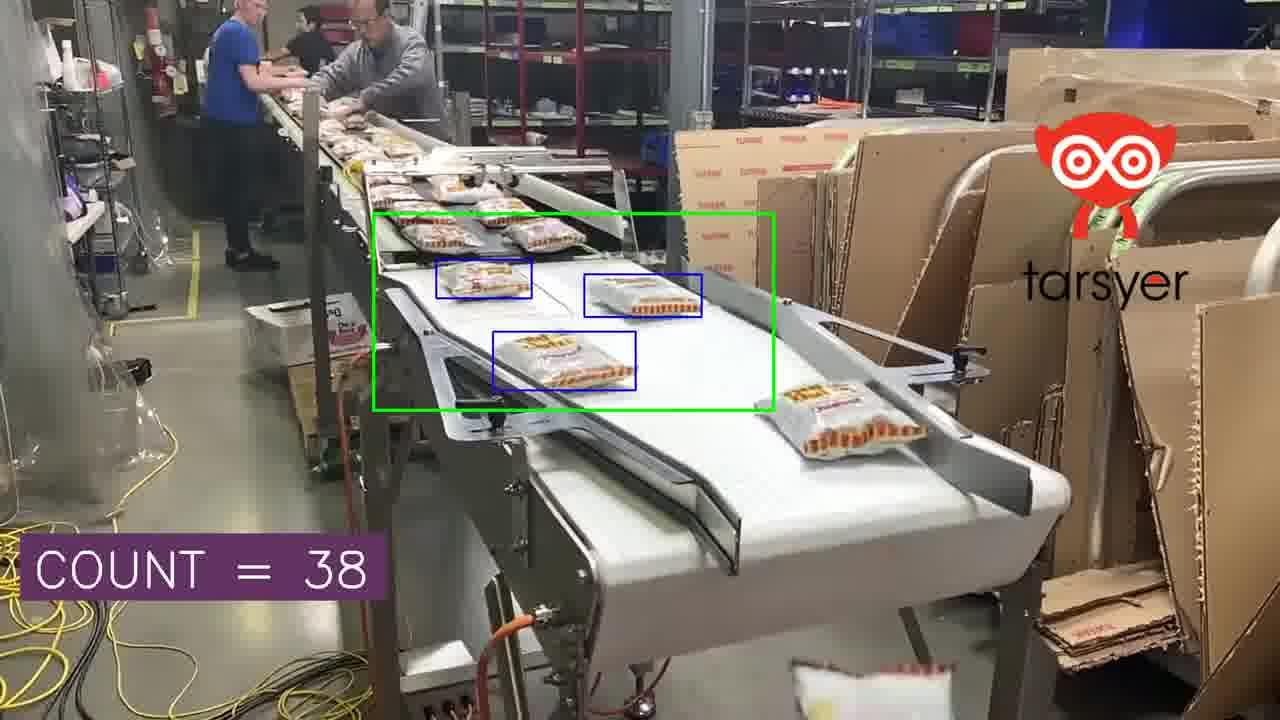Snack: (769, 382, 925, 459), (792, 663, 954, 719), (496, 333, 633, 388), (588, 275, 700, 316), (439, 261, 530, 297), (504, 217, 585, 251), (403, 224, 481, 251), (430, 175, 502, 204), (390, 199, 456, 226), (475, 197, 533, 227), (370, 129, 425, 158), (368, 184, 423, 210), (331, 138, 377, 160), (346, 148, 386, 166), (323, 97, 358, 116), (367, 174, 411, 187), (341, 113, 368, 130), (318, 118, 345, 134)
